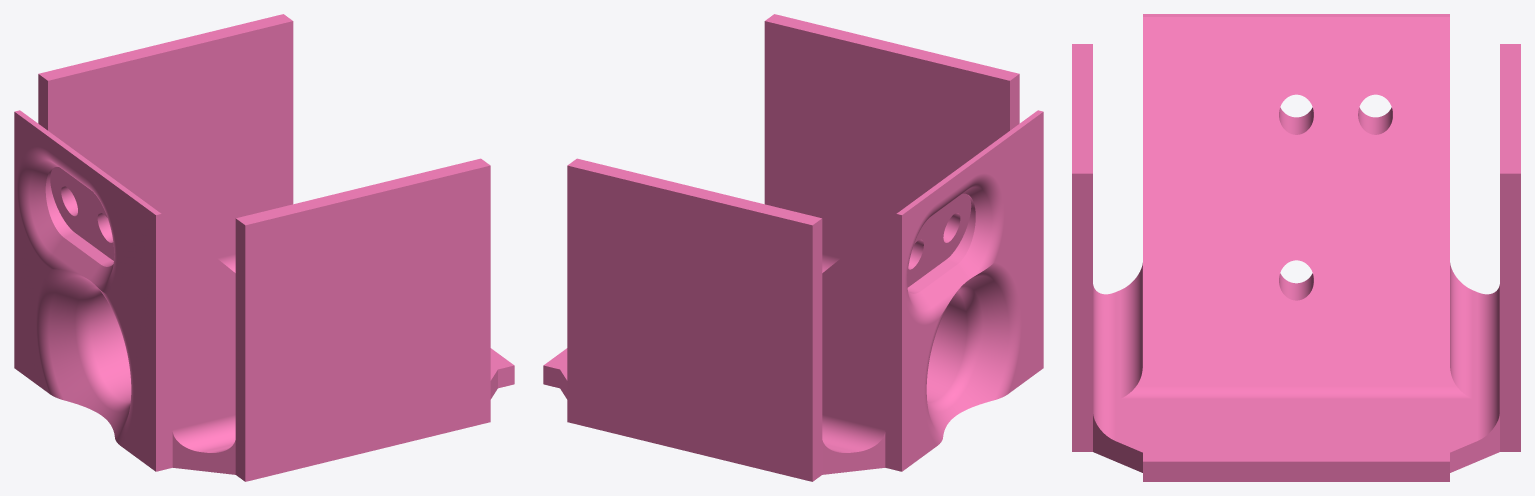
Rendered from V5_Mirror Base Vertical.obj.
3 views of the same model, side by side, from view 1: azimuth 30°, elevation 25°; view 2: azimuth 150°, elevation 25°; view 3: azimuth 270°, elevation 25° (orthographic). The views are drawn at different scales.
Parts seen in each view (by area): view 1: Solid1:27; view 2: Solid1:27; view 3: Solid1:27.
Boxes of the visible parts, <box> form: Solid1:27: <box>14,14,514,481</box>; Solid1:27: <box>543,14,1043,481</box>; Solid1:27: <box>1072,14,1520,481</box>.
Bounding box in the file's own units: 49.65 × 33.95 × 49.65.
